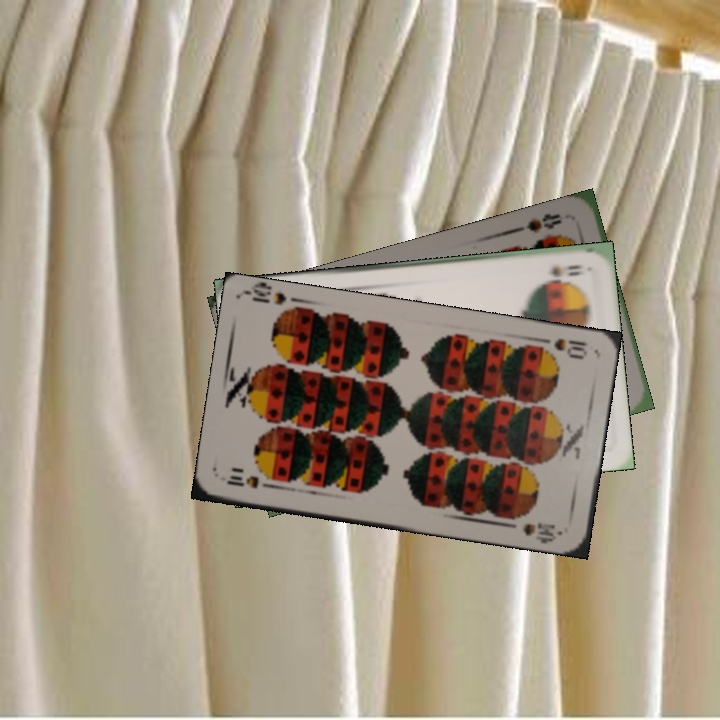S10: (533, 333, 590, 361), (223, 471, 278, 491)
S8: (514, 209, 564, 235)
SO: (546, 260, 586, 280)
